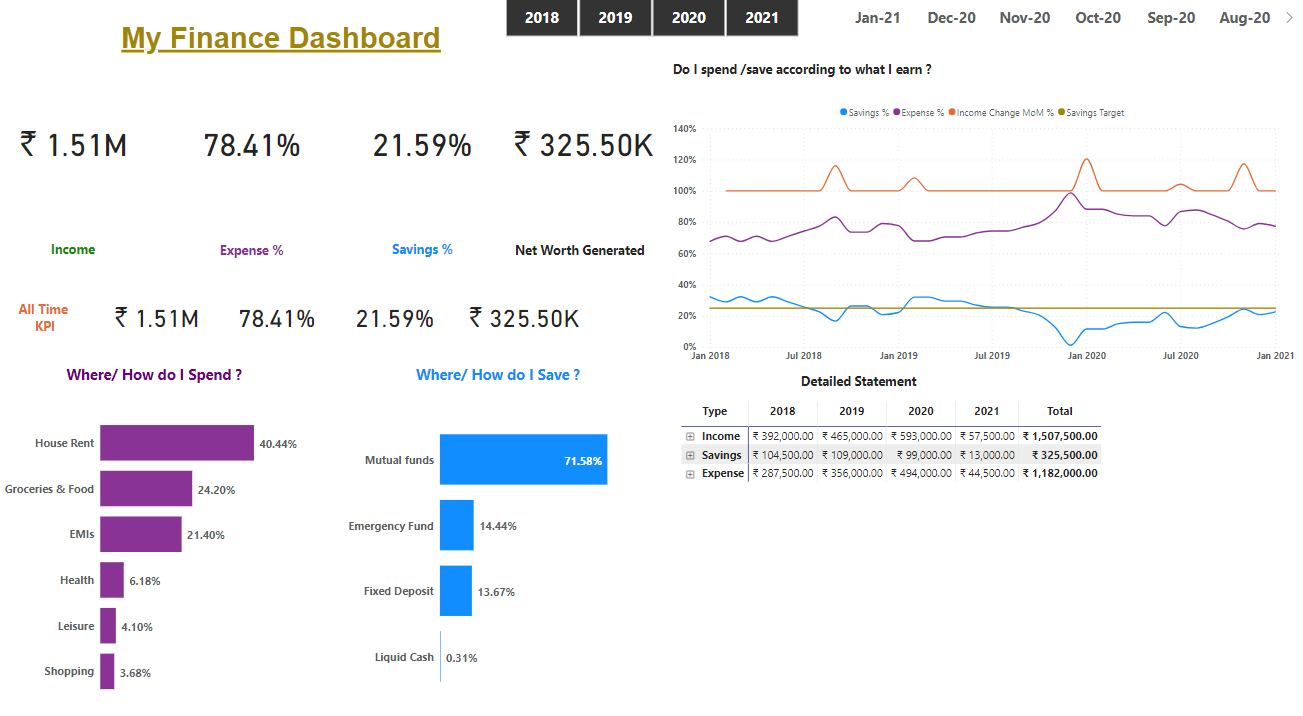

What the dashboard file says about the page in this screenshot:
{"tool":"powerbi","page":{"name":"Fin Dashboard","canvas":[1920,1080],"ordinal":0},"visuals":[{"type":"card","fields":{"Values":["Key Measures.Total Income"]},"box":[0,86.8,235.2,258.7],"z":0},{"type":"card","fields":{"Values":["Key Measures.Expense %"]},"box":[264.1,86.8,226.1,258.7],"z":1000},{"type":"card","fields":{"Values":["Key Measures.Savings %"]},"box":[517.4,86.8,220.7,258.7],"z":2000},{"type":"card","fields":{"Values":["Key Measures.Total Savings"]},"box":[738.1,86.8,249.6,258.7],"z":3000},{"type":"textbox","box":[0,356.4,233.4,52.5],"z":4000},{"type":"textbox","box":[264.1,358.2,226.1,50.7],"z":5000},{"type":"textbox","box":[517.4,356.4,220.7,52.5],"z":6000},{"type":"textbox","box":[752.6,358.2,209.8,52.5],"z":7000},{"type":"slicer","fields":{"Values":["FinData.Year"]},"box":[723.6,0,477.6,70.6],"z":8000},{"type":"slicer","fields":{"Values":["FinData.Date"]},"box":[1215.7,1.8,691.1,68.7],"z":9000},{"type":"card","fields":{"Values":["Key Measures.Total Income"]},"box":[161,417.9,157.4,108.5],"z":10000},{"type":"card","fields":{"Values":["Key Measures.Expense %"]},"box":[338.3,417.9,153.8,108.5],"z":11000},{"type":"card","fields":{"Values":["Key Measures.Savings %"]},"box":[515.6,417.9,144.7,108.5],"z":12000},{"type":"card","fields":{"Values":["Key Measures.Total Savings"]},"box":[680.2,417.9,193.6,108.5],"z":13000},{"type":"textbox","box":[10.9,537.3,448.6,54.3],"z":14000},{"type":"clusteredBarChart","fields":{"Category":["FinData.Component"],"Y":["Key Measures.Total Expense"]},"box":[10.3,592.8,446.7,459],"z":15000},{"type":"textbox","box":[0,443.2,152,59.7],"z":16000},{"type":"clusteredBarChart","fields":{"Category":["FinData.Component"],"Y":["Key Measures.Total Savings"]},"box":[513.8,593.4,446.8,459.5],"z":17000},{"type":"textbox","box":[513.8,537.3,448.6,54.3],"z":18000},{"type":"lineChart","fields":{"Y":["Key Measures.Savings %","Key Measures.Expense %","Key Measures.Income Change MoM %","Key Measures.Savings Target"],"Category":["FinData.Date"]},"box":[987.7,153.8,919,396.2],"z":19000},{"type":"textbox","box":[987.7,92.3,553.6,52.5],"z":20000},{"type":"pivotTable","fields":{"Values":["Key Measures.Values"],"Columns":["FinData.Date","FinData.Year"],"Rows":["Type.Type","FinData.Component"]},"box":[1000.4,591.6,919,488.4],"z":21000},{"type":"textbox","box":[987.7,549.9,553.6,39.8],"z":22000},{"type":"textbox","box":[148.3,36.2,546.3,74.2],"z":23000}]}

Visuals, with their boxes in screenshot pixels (x1, y1, x2, y2), scaled from the page's 1920x1080 canvas onto the 1303x716 screenshot:
card - Key Measures.Total Income: x1=0, y1=58, x2=160, y2=229
card - Key Measures.Expense %: x1=179, y1=58, x2=333, y2=229
card - Key Measures.Savings %: x1=351, y1=58, x2=501, y2=229
card - Key Measures.Total Savings: x1=501, y1=58, x2=670, y2=229
textbox: x1=0, y1=236, x2=158, y2=271
textbox: x1=179, y1=237, x2=333, y2=271
textbox: x1=351, y1=236, x2=501, y2=271
textbox: x1=511, y1=237, x2=653, y2=272
slicer - FinData.Year: x1=491, y1=0, x2=815, y2=47
slicer - FinData.Date: x1=825, y1=1, x2=1294, y2=47
card - Key Measures.Total Income: x1=109, y1=277, x2=216, y2=349
card - Key Measures.Expense %: x1=230, y1=277, x2=334, y2=349
card - Key Measures.Savings %: x1=350, y1=277, x2=448, y2=349
card - Key Measures.Total Savings: x1=462, y1=277, x2=593, y2=349
textbox: x1=7, y1=356, x2=312, y2=392
clusteredBarChart - FinData.Component x Key Measures.Total Expense: x1=7, y1=393, x2=310, y2=697
textbox: x1=0, y1=294, x2=103, y2=333
clusteredBarChart - FinData.Component x Key Measures.Total Savings: x1=349, y1=393, x2=652, y2=698
textbox: x1=349, y1=356, x2=653, y2=392
lineChart - Key Measures.Savings % x Key Measures.Expense %: x1=670, y1=102, x2=1294, y2=365
textbox: x1=670, y1=61, x2=1046, y2=96
pivotTable - Key Measures.Values x FinData.Date: x1=679, y1=392, x2=1302, y2=715
textbox: x1=670, y1=365, x2=1046, y2=391
textbox: x1=101, y1=24, x2=471, y2=73
